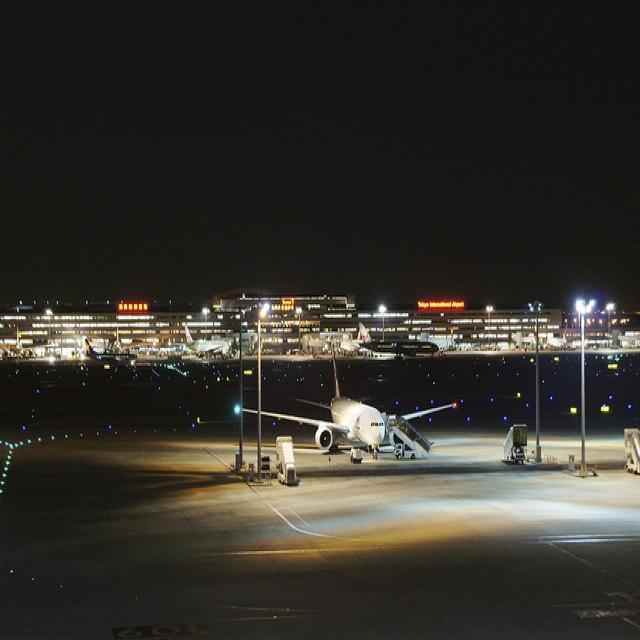airplane: (238, 342, 460, 466)
